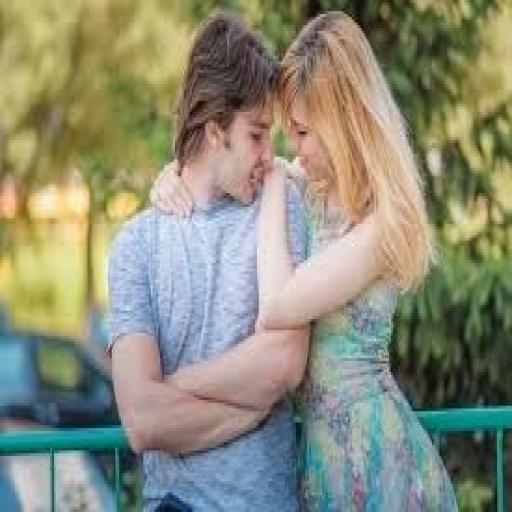hugging: (104, 8, 462, 510)
